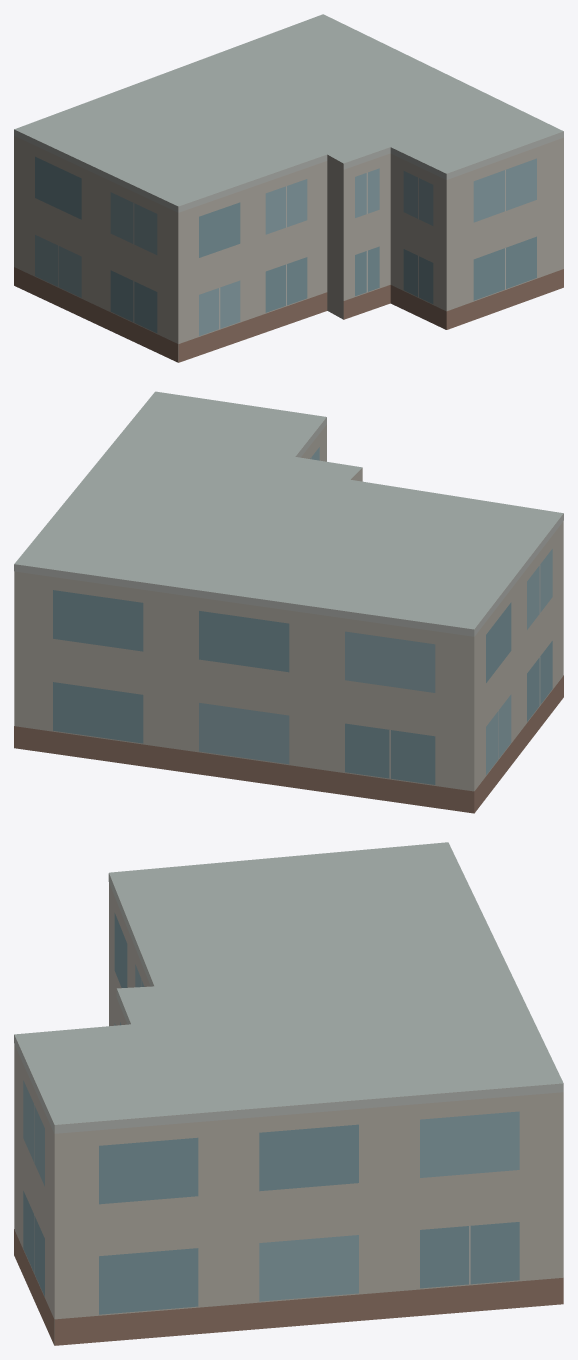
The model's file is survey-upis-32622407.glb.
3 renders of one model, top to bottom at view 1: azimuth 30°, elevation 25°; view 2: azimuth 150°, elevation 25°; view 3: azimuth 270°, elevation 25°, orthographic. The views are drawn at different scales.
Visible parts, largest first — view 1: survey-upis-32622407.tmp; view 2: survey-upis-32622407.tmp; view 3: survey-upis-32622407.tmp.
Part boxes in pixels (<box>): survey-upis-32622407.tmp: <box>14,14,563,362</box>; survey-upis-32622407.tmp: <box>14,391,563,813</box>; survey-upis-32622407.tmp: <box>14,842,563,1345</box>.
Bounding box in the file's own units: 16.78 × 6.1 × 13.78.
